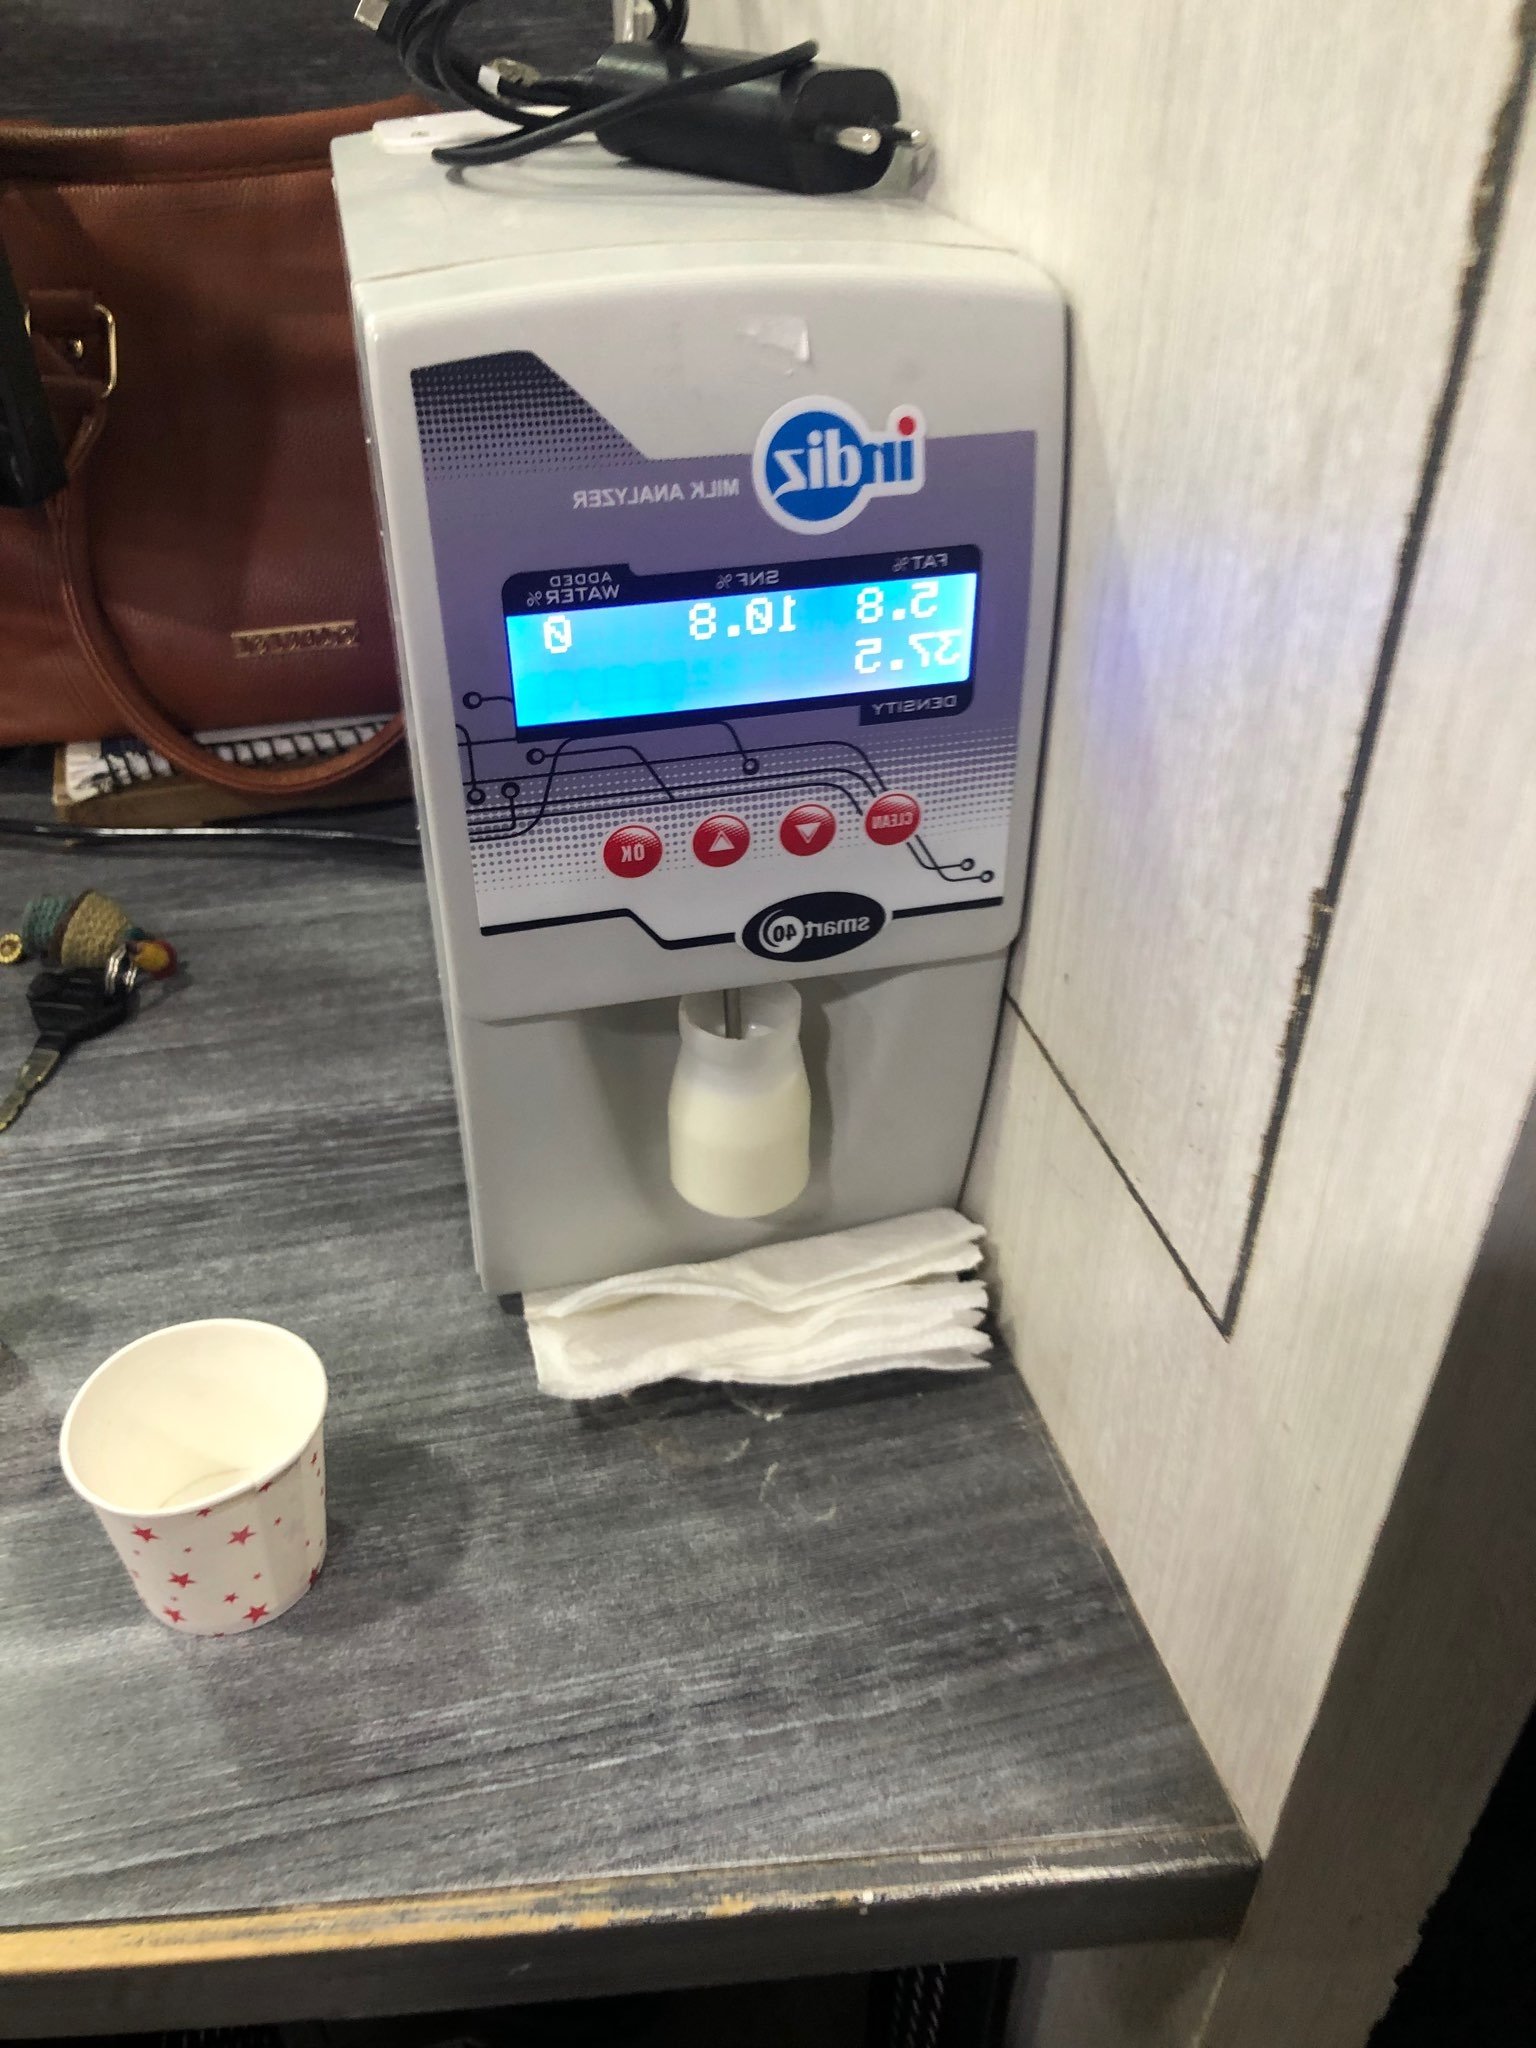lcd: (500, 539, 984, 755)
